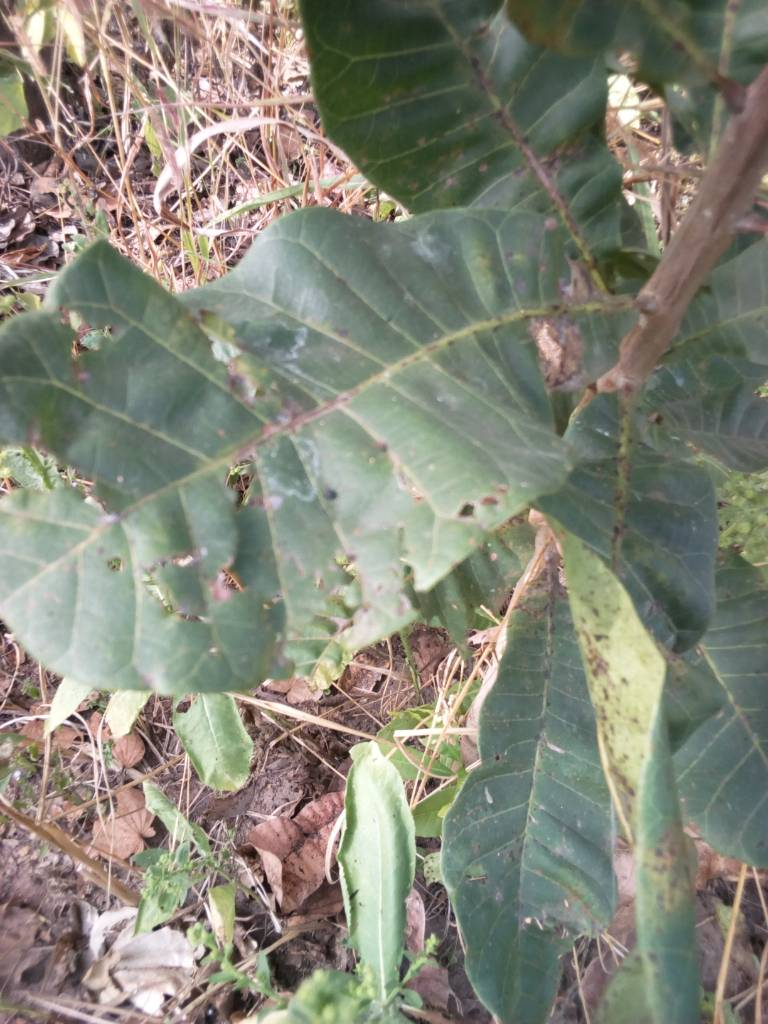Aphis gossypi: (1, 188, 649, 699), (433, 560, 624, 1022)
